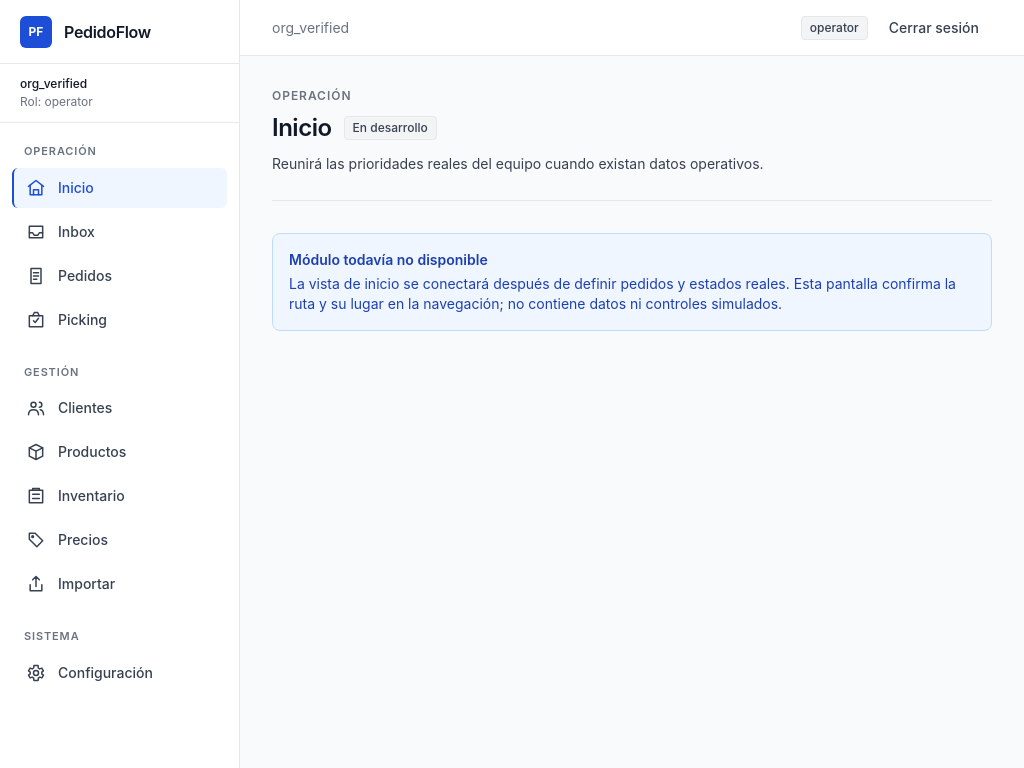
logout flow › keeps the verified shell visible when logout fails
Click the button "Cerrar sesión": point(934, 28) [876,10,992,46]
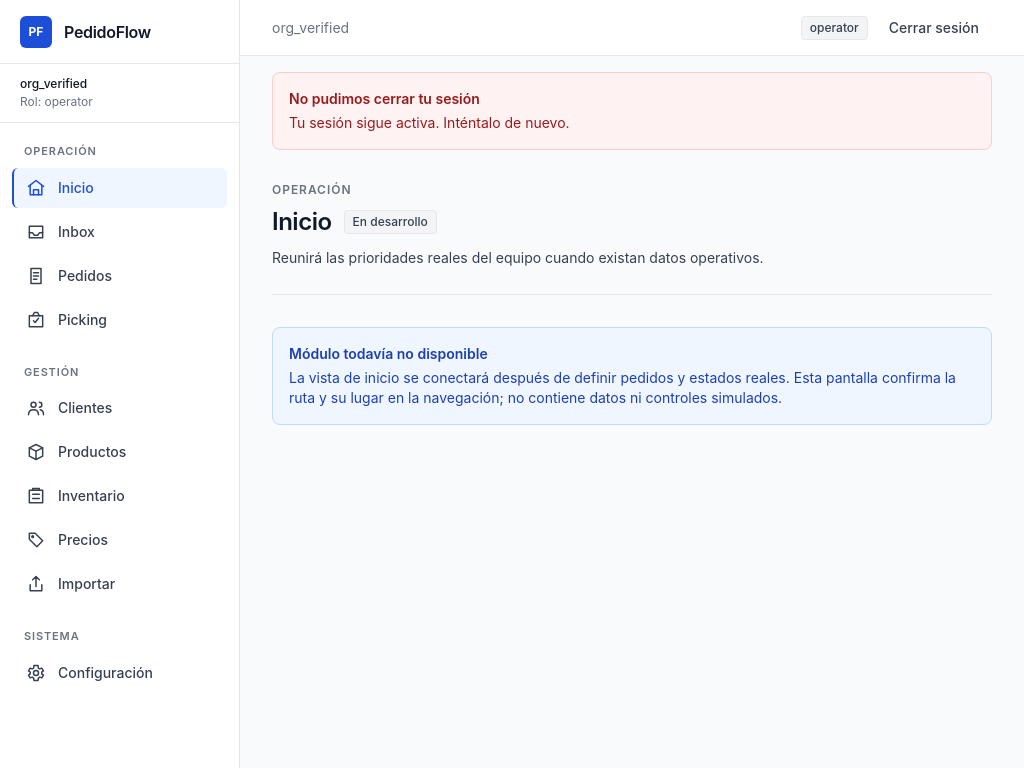
Expected: the heading "Inicio" is shown, [272,206,332,238]
Expected: the text "Tu sesión sigue activa. Inténtalo de nuevo." is shown, [289,114,570,131]
